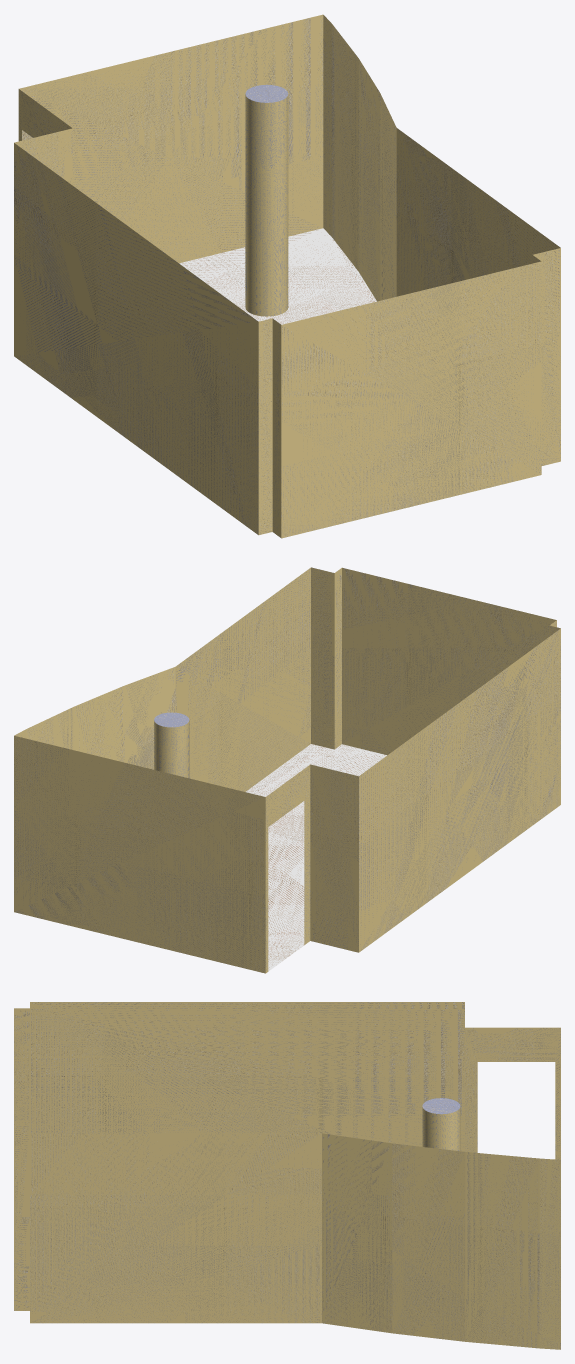
The model's file is LAB005.obj.
3 renders of one model, top to bottom at view 1: azimuth 30°, elevation 25°; view 2: azimuth 150°, elevation 25°; view 3: azimuth 270°, elevation 25°, orthographic. The views are drawn at different scales.
Parts seen in each view (by area): view 1: Mesh4 LAB005 Model, Mesh1 Group1 LAB005 Model; view 2: Mesh4 LAB005 Model, Mesh1 Group1 LAB005 Model; view 3: Mesh4 LAB005 Model, Mesh1 Group1 LAB005 Model.
Boxes of the visible parts, x1,y1,x2,y2 form: Mesh4 LAB005 Model: (14, 14, 560, 538); Mesh1 Group1 LAB005 Model: (245, 84, 288, 316); Mesh4 LAB005 Model: (14, 567, 560, 973); Mesh1 Group1 LAB005 Model: (154, 712, 189, 778); Mesh4 LAB005 Model: (14, 1002, 560, 1349); Mesh1 Group1 LAB005 Model: (422, 1098, 460, 1151).
Size of the model in its own units: 5.3 by 2.98 by 7.76.
5 materials, 2 textured.
